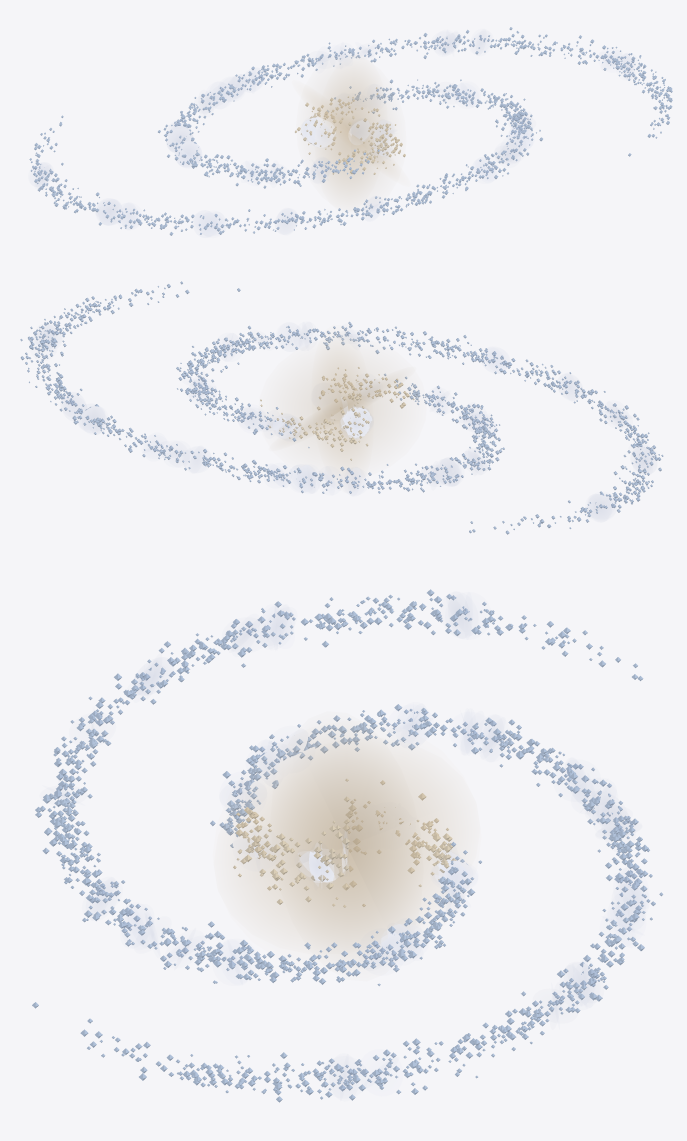
3 renders of one model, top to bottom at view 1: azimuth 30°, elevation 25°; view 2: azimuth 150°, elevation 25°; view 3: azimuth 270°, elevation 25°, orthographic. The views are drawn at different scales.
Bounding box in the file's own units: 7.21 × 1.78 × 3.99.
